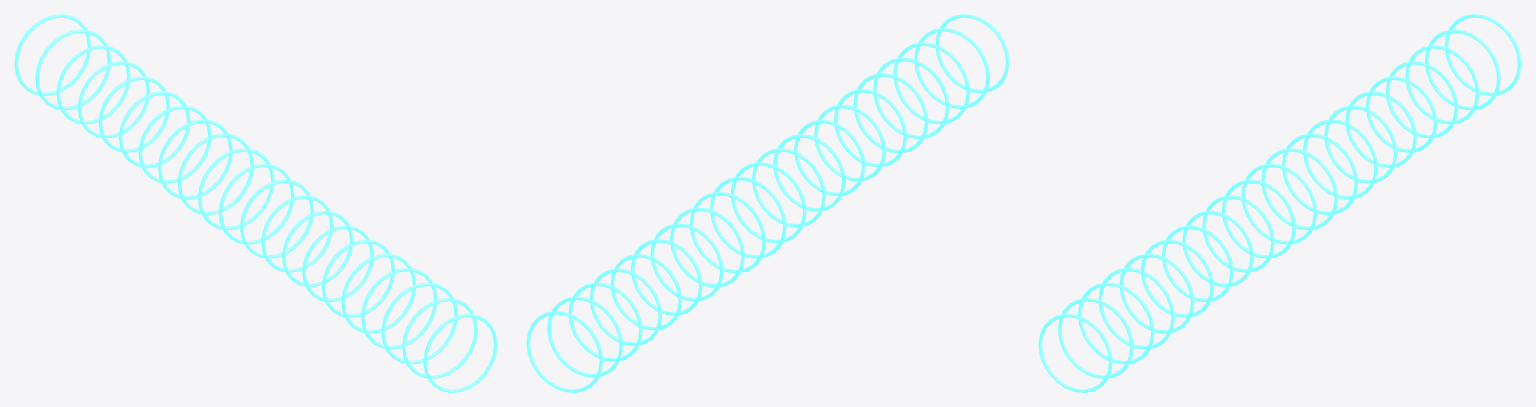
File: flyer_rings.glb
3 renders of one model, left to right at view 1: azimuth 30°, elevation 25°; view 2: azimuth 150°, elevation 25°; view 3: azimuth 330°, elevation 25°, orthographic.
Visible parts, largest first — view 1: TunnelRing_004, TunnelRing_000, TunnelRing_044, TunnelRing_080, TunnelRing_008, TunnelRing_048, TunnelRing_012, TunnelRing_040, TunnelRing_076, TunnelRing_052, TunnelRing_016, TunnelRing_072 (+9 smaller); view 2: TunnelRing_080, TunnelRing_076, TunnelRing_044, TunnelRing_048, TunnelRing_008, TunnelRing_012, TunnelRing_004, TunnelRing_040, TunnelRing_052, TunnelRing_016, TunnelRing_072, TunnelRing_036 (+9 smaller); view 3: TunnelRing_004, TunnelRing_000, TunnelRing_044, TunnelRing_080, TunnelRing_008, TunnelRing_048, TunnelRing_012, TunnelRing_040, TunnelRing_076, TunnelRing_052, TunnelRing_016, TunnelRing_072 (+9 smaller).
Part boxes in pixels (bbox=[...]): TunnelRing_004: bbox=[402, 298, 477, 378]; TunnelRing_000: bbox=[423, 313, 497, 392]; TunnelRing_044: bbox=[198, 148, 274, 230]; TunnelRing_080: bbox=[14, 14, 91, 95]; TunnelRing_008: bbox=[381, 282, 457, 364]; TunnelRing_048: bbox=[177, 133, 253, 215]; TunnelRing_012: bbox=[361, 267, 437, 349]; TunnelRing_040: bbox=[218, 163, 294, 244]; TunnelRing_076: bbox=[35, 29, 111, 110]; TunnelRing_052: bbox=[158, 119, 232, 199]; TunnelRing_016: bbox=[341, 253, 416, 333]; TunnelRing_072: bbox=[56, 45, 130, 124]; TunnelRing_080: bbox=[526, 311, 603, 392]; TunnelRing_076: bbox=[547, 296, 623, 377]; TunnelRing_044: bbox=[710, 176, 786, 258]; TunnelRing_048: bbox=[689, 191, 765, 273]; TunnelRing_008: bbox=[893, 42, 969, 124]; TunnelRing_012: bbox=[873, 57, 949, 138]; TunnelRing_004: bbox=[914, 28, 989, 108]; TunnelRing_040: bbox=[731, 162, 806, 243]; TunnelRing_052: bbox=[670, 207, 744, 287]; TunnelRing_016: bbox=[853, 73, 928, 153]; TunnelRing_072: bbox=[568, 282, 642, 361]; TunnelRing_036: bbox=[752, 148, 825, 227]; TunnelRing_004: bbox=[1058, 298, 1133, 378]; TunnelRing_000: bbox=[1038, 313, 1112, 392]; TunnelRing_044: bbox=[1261, 148, 1337, 230]; TunnelRing_080: bbox=[1444, 14, 1521, 95]; TunnelRing_008: bbox=[1078, 282, 1154, 364]; TunnelRing_048: bbox=[1282, 133, 1358, 215]; TunnelRing_012: bbox=[1098, 267, 1174, 349]; TunnelRing_040: bbox=[1241, 163, 1317, 244]; TunnelRing_076: bbox=[1424, 29, 1500, 110]; TunnelRing_052: bbox=[1303, 119, 1377, 199]; TunnelRing_016: bbox=[1119, 253, 1194, 333]; TunnelRing_072: bbox=[1405, 45, 1479, 124].
Size of the model in its own units: 8.66 by 8.66 by 80.36.
